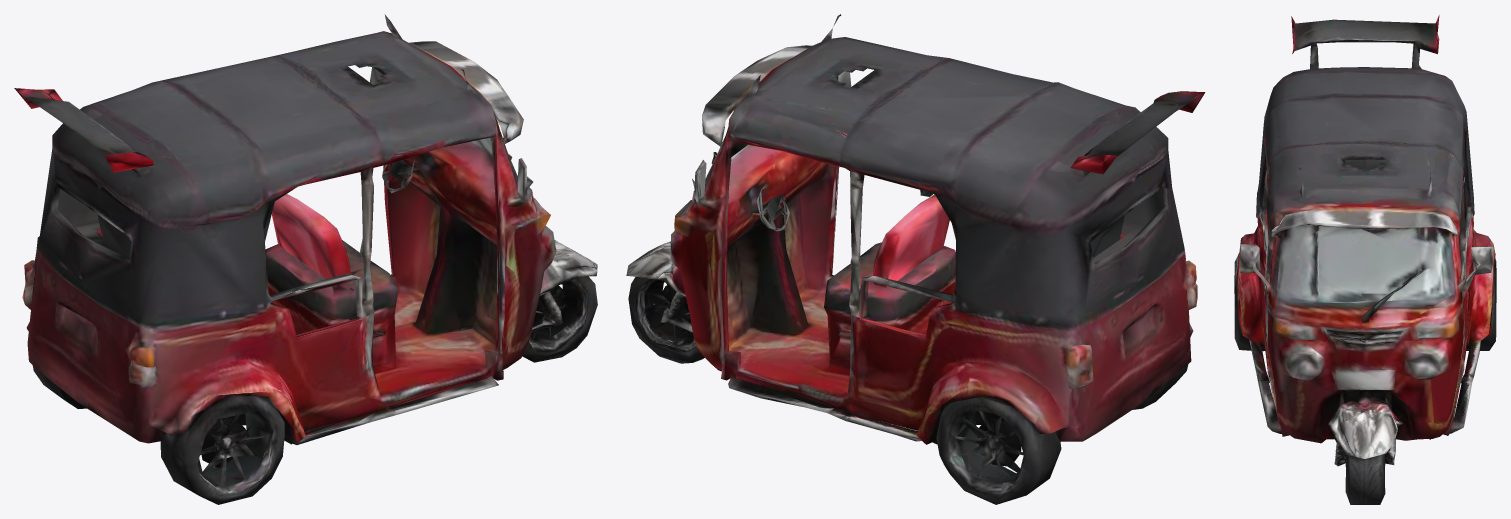
File: tukking_1.glb
3 views of the same model, side by side, from view 1: azimuth 30°, elevation 25°; view 2: azimuth 150°, elevation 25°; view 3: azimuth 270°, elevation 25° (orthographic). The views are drawn at different scales.
Parts seen in each view (by area): view 1: tripo_node_3a626c2a-ee75-473e-8684-4d02fdd26bb4; view 2: tripo_node_3a626c2a-ee75-473e-8684-4d02fdd26bb4; view 3: tripo_node_3a626c2a-ee75-473e-8684-4d02fdd26bb4.
Boxes of the visible parts, x1=… form: tripo_node_3a626c2a-ee75-473e-8684-4d02fdd26bb4: x1=14, y1=14, x2=597, y2=504; tripo_node_3a626c2a-ee75-473e-8684-4d02fdd26bb4: x1=626, y1=14, x2=1205, y2=504; tripo_node_3a626c2a-ee75-473e-8684-4d02fdd26bb4: x1=1234, y1=15, x2=1496, y2=504.
Bounding box in the file's own units: 0.9976 × 0.6261 × 0.5083.
Materials: 1 (1 with a texture image).
